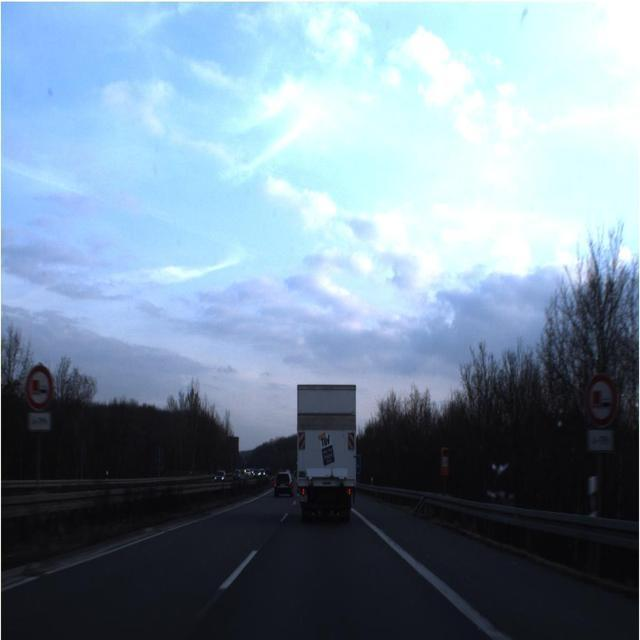forb_overtake_trucks: (586, 372, 618, 427), (25, 364, 54, 411)
